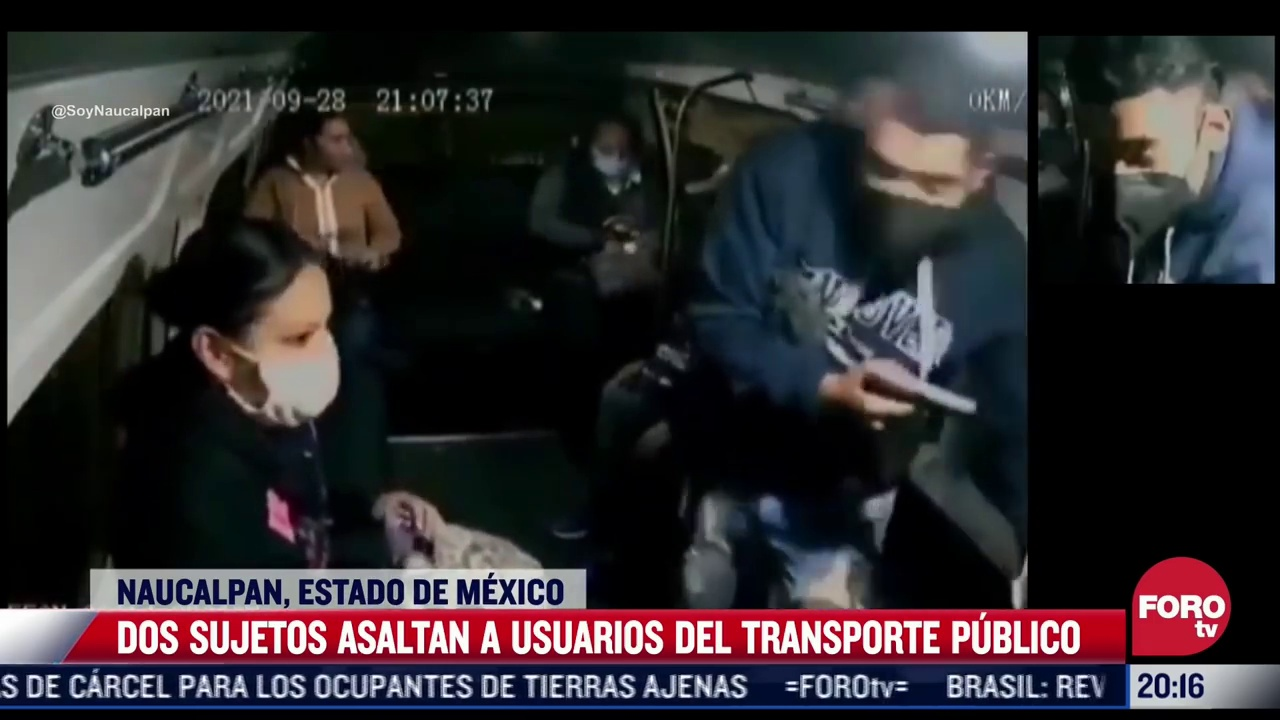pistol: (860, 368, 980, 420)
